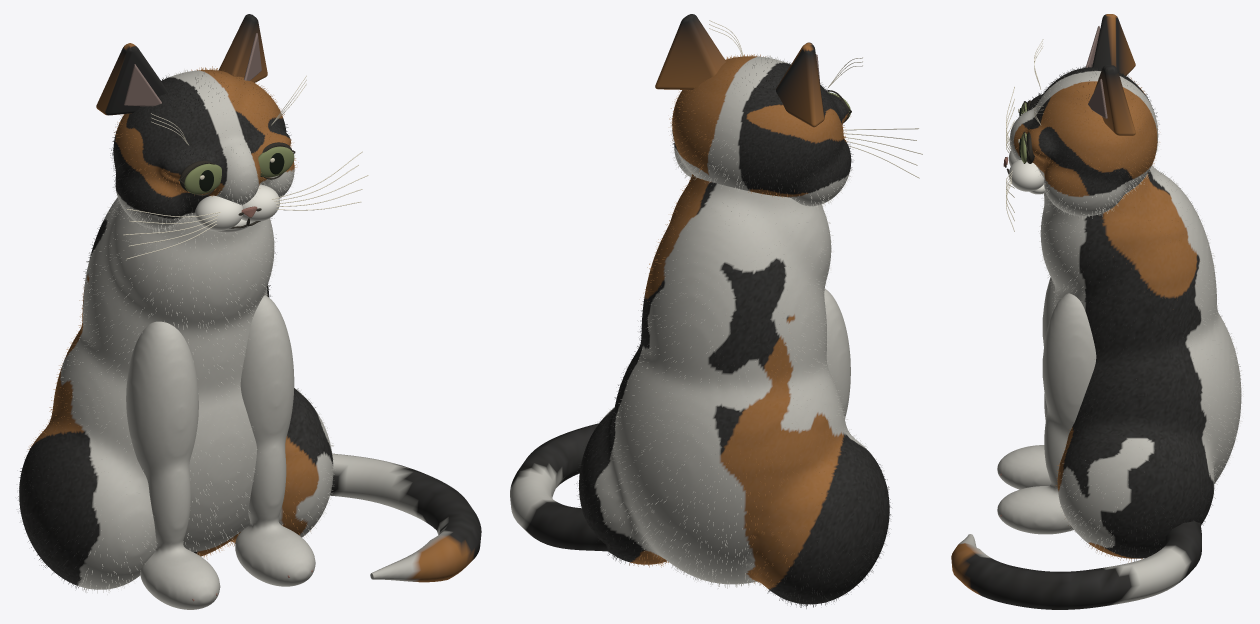
Rendered from mugi-calico-v3.glb.
3 views of the same model, side by side, from view 1: azimuth 30°, elevation 25°; view 2: azimuth 150°, elevation 25°; view 3: azimuth 270°, elevation 25° (orthographic). The views are drawn at different scales.
Visible parts, largest first — view 1: Body_Sculpt, Head_Sculpt, Foreleg_L, Foreleg_R, Tail, Short coat • Body_Sculpt, Ear_L, Ear_R, Whisker pad, Short coat • Head_Sculpt, Inner ear, Whisker pad.001 (+2 smaller); view 2: Body_Sculpt, Head_Sculpt, Tail, Ear_R, Short coat • Body_Sculpt, Ear_L, Foreleg_L, Short coat • Head_Sculpt; view 3: Body_Sculpt, Head_Sculpt, Tail, Foreleg_R, Foreleg_L, Ear_L, Ear_R, Short coat • Body_Sculpt, Short coat • Head_Sculpt, Whisker pad.001, Inner ear.001.
Part boxes in pixels (<box>): Body_Sculpt: <box>19,197,333,589</box>; Head_Sculpt: <box>113,70,294,229</box>; Foreleg_L: <box>126,321,220,609</box>; Foreleg_R: <box>235,295,315,586</box>; Tail: <box>330,453,481,582</box>; Short coat • Body_Sculpt: <box>18,200,334,594</box>; Ear_L: <box>96,43,167,115</box>; Ear_R: <box>218,14,267,82</box>; Whisker pad: <box>195,195,242,230</box>; Short coat • Head_Sculpt: <box>110,66,298,233</box>; Inner ear: <box>124,64,161,106</box>; Whisker pad.001: <box>241,184,279,222</box>; Body_Sculpt: <box>579,174,889,604</box>; Head_Sculpt: <box>672,56,851,206</box>; Tail: <box>510,423,610,551</box>; Ear_R: <box>655,14,726,89</box>; Short coat • Body_Sculpt: <box>576,175,891,608</box>; Ear_L: <box>776,42,824,127</box>; Foreleg_L: <box>824,289,850,418</box>; Short coat • Head_Sculpt: <box>669,54,853,208</box>; Body_Sculpt: <box>1040,165,1241,558</box>; Head_Sculpt: <box>1009,67,1158,216</box>; Tail: <box>951,521,1201,609</box>; Foreleg_R: <box>997,293,1096,534</box>; Foreleg_L: <box>997,277,1054,489</box>; Ear_L: <box>1092,14,1135,75</box>; Ear_R: <box>1094,65,1135,135</box>; Short coat • Body_Sculpt: <box>1038,164,1243,562</box>; Short coat • Head_Sculpt: <box>1009,64,1159,219</box>; Whisker pad.001: <box>1008,160,1044,191</box>; Inner ear.001: <box>1088,79,1107,118</box>.
Bounding box in the file's own units: 1.81 × 2.42 × 1.33.
